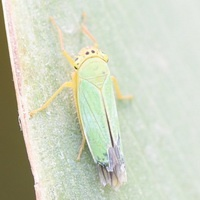insect: (29, 12, 131, 189)
